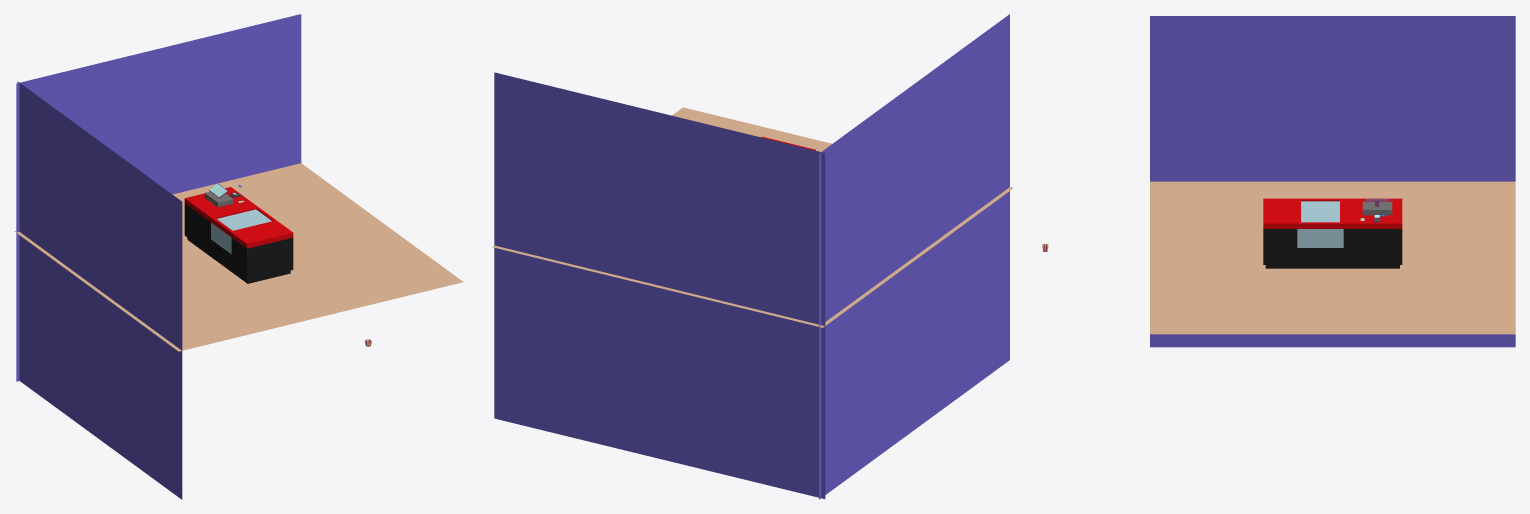
The model's file is cinemaCounter2.fbx.
3 renders of one model, left to right at view 1: azimuth 30°, elevation 25°; view 2: azimuth 150°, elevation 25°; view 3: azimuth 270°, elevation 25°, orthographic. The views are drawn at different scales.
Parts seen in each view (by area): view 1: Plane.002, Plane.001, Plane, Cube, Cube.001; view 2: Plane.001, Plane.002, Plane; view 3: Plane.002, Plane, Cube, Cube.001.
Part boxes in pixels (<box>): Plane.002: <box>17,81,182,499</box>; Plane.001: <box>16,14,301,381</box>; Plane: <box>14,163,463,351</box>; Cube: <box>184,203,293,283</box>; Cube.001: <box>184,187,293,248</box>; Plane.001: <box>494,72,825,498</box>; Plane.002: <box>819,14,1009,499</box>; Plane: <box>492,107,1013,327</box>; Plane.002: <box>1150,16,1515,347</box>; Plane: <box>1150,181,1515,334</box>; Cube: <box>1263,229,1402,268</box>; Cube.001: <box>1263,198,1402,228</box>.
Bounding box in the file's own units: 3689 × 3689 × 4775.
